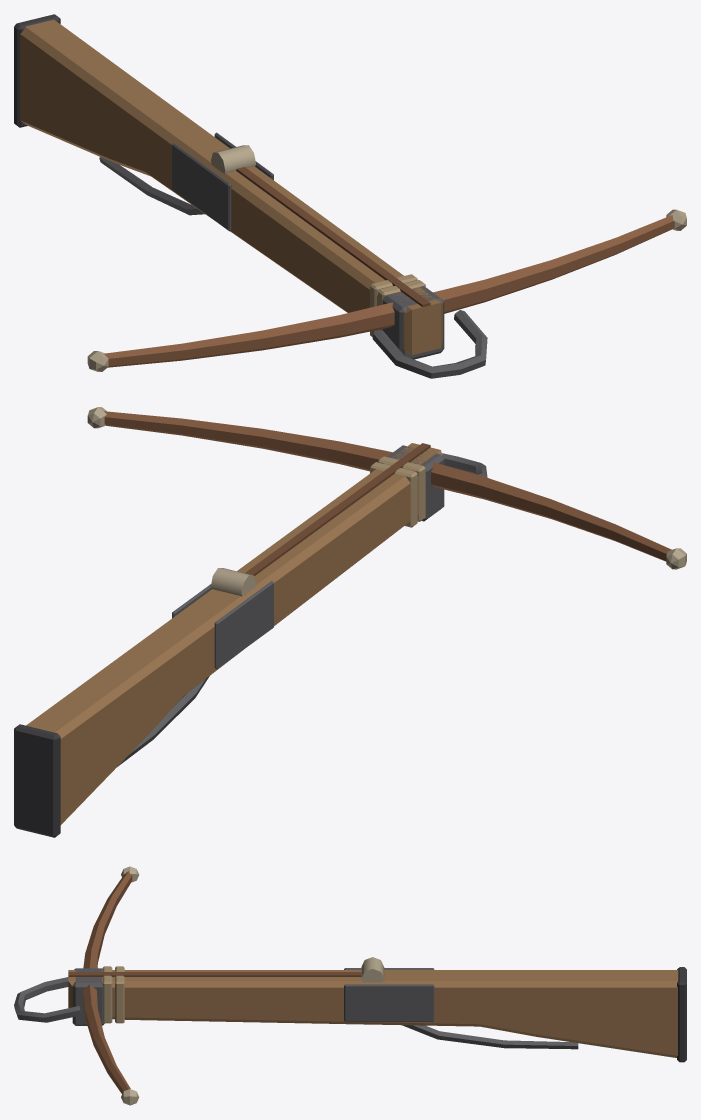
The model's file is light_crossbow.glb.
3 renders of one model, top to bottom at view 1: azimuth 30°, elevation 25°; view 2: azimuth 150°, elevation 25°; view 3: azimuth 270°, elevation 25°, orthographic. The views are drawn at different scales.
Parts seen in each view (by area): view 1: light_crossbow; view 2: light_crossbow; view 3: light_crossbow.
Part boxes in pixels (x1,y1,x2,y2): light_crossbow: [14, 14, 686, 378]; light_crossbow: [14, 407, 686, 837]; light_crossbow: [14, 866, 686, 1105].
Bounding box in the file's own units: 0.6595 × 0.1235 × 0.8182.
